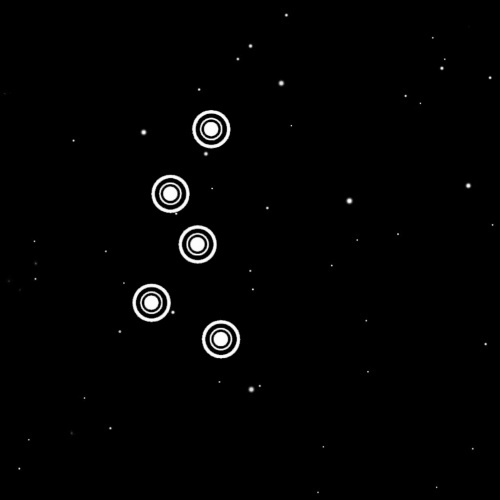cassiopeia: (111, 94, 253, 373)
